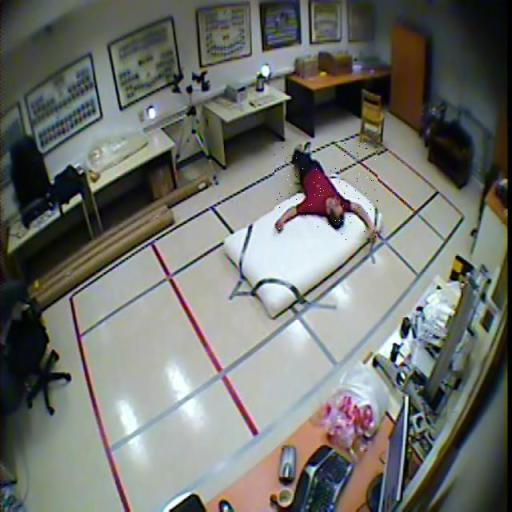Fall: (275, 143, 378, 242)
